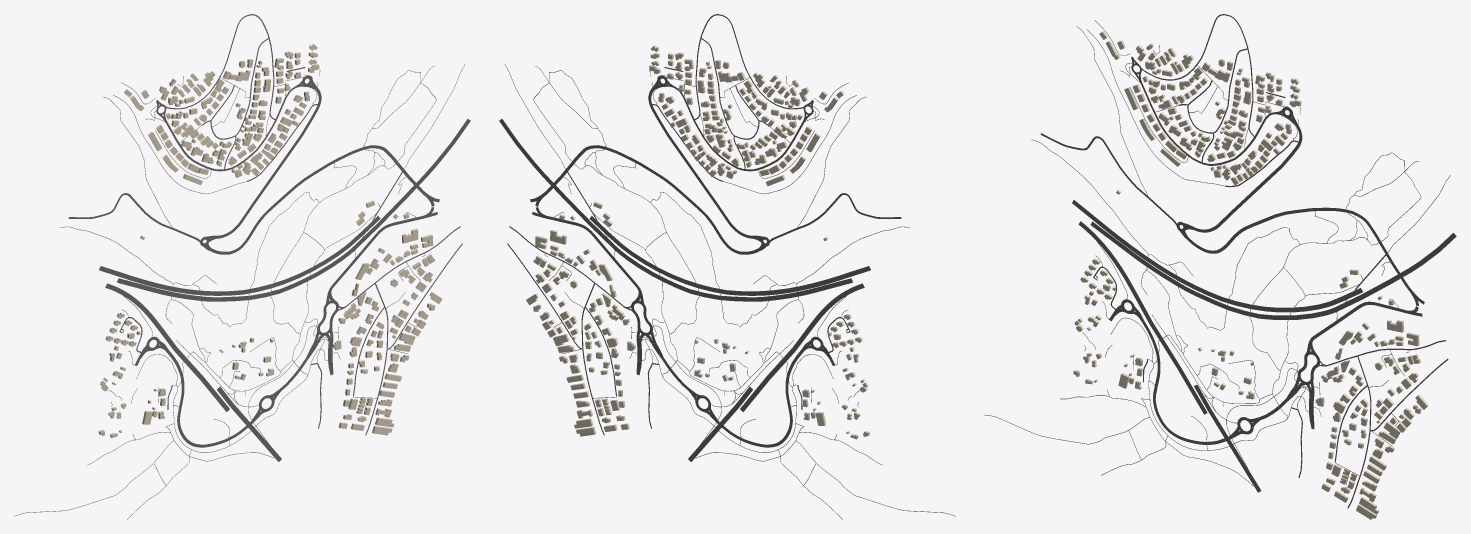
File: historic-palestine-10_23_3516_3179.glb
3 renders of one model, left to right at view 1: azimuth 30°, elevation 25°; view 2: azimuth 150°, elevation 25°; view 3: azimuth 330°, elevation 25°, orthographic. The views are drawn at different scales.
Parts seen in each view (by area): view 1: Road כביש ירושלים תל אביב.002, Road כביש ירושלים תל אביב.001, Road דרך אריאל שרון.001, Road חכם יצחק עמדי.002, Road כביש ירושלים תל אביב, Road שורק.003; view 2: Road כביש ירושלים תל אביב.002, Road כביש ירושלים תל אביב.001, Road דרך אריאל שרון.001, Road חכם יצחק עמדי.002, Road כביש ירושלים תל אביב, Road שורק.003; view 3: Road כביש ירושלים תל אביב.002, Road כביש ירושלים תל אביב.001, Road דרך אריאל שרון.001, Road חכם יצחק עמדי.002, Road כביש ירושלים תל אביב, Road שורק.003.
Part boxes in pixels (x1,y1,x2,y2): Road כביש ירושלים תל אביב.002: (99, 248, 343, 295); Road כביש ירושלים תל אביב.001: (117, 254, 346, 301); Road דרך אריאל שרון.001: (116, 288, 229, 411); Road חכם יצחק עמדי.002: (210, 145, 409, 254); Road כביש ירושלים תל אביב: (345, 119, 470, 256); Road שורק.003: (217, 88, 321, 238); Road כביש ירושלים תל אביב.002: (626, 248, 870, 295); Road כביש ירושלים תל אביב.001: (623, 254, 852, 301); Road דרך אריאל שרון.001: (740, 288, 853, 411); Road חכם יצחק עמדי.002: (560, 145, 759, 254); Road כביש ירושלים תל אביב: (499, 119, 624, 256); Road שורק.003: (648, 87, 752, 238); Road כביש ירושלים תל אביב.002: (1072, 200, 1325, 312); Road כביש ירושלים תל אביב.001: (1090, 221, 1327, 319); Road דרך אריאל שרון.001: (1090, 231, 1207, 414); Road חכם יצחק עמדי.002: (1187, 207, 1392, 262); Road כביש ירושלים תל אביב: (1326, 233, 1456, 314); Road שורק.003: (1194, 124, 1302, 232).
Bounding box in the file's own units: 1304 × 1298 × 8.7.
